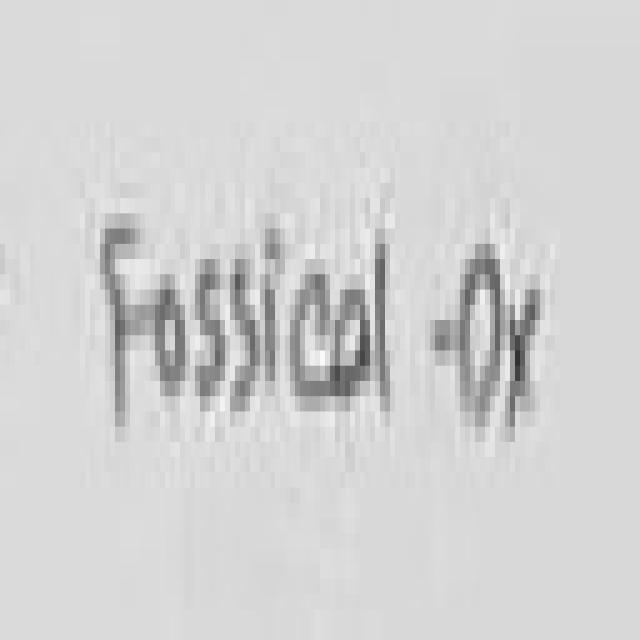D: (465, 247, 505, 434)
F: (105, 229, 150, 419)
a: (335, 290, 377, 411)
c: (295, 274, 330, 396)
i: (265, 290, 280, 395), (265, 229, 285, 274)
l: (380, 244, 390, 404)
o: (155, 290, 185, 396)
s: (196, 262, 225, 389), (235, 259, 260, 404)
x: (505, 293, 549, 422)
